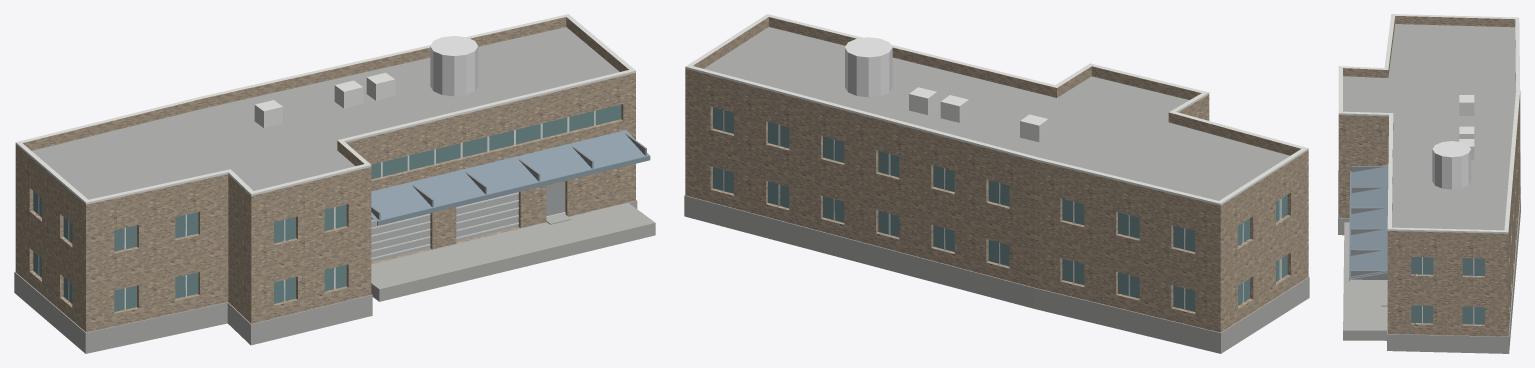
The picture shows the model from 3 angles, left to right: view 1: azimuth 30°, elevation 25°; view 2: azimuth 150°, elevation 25°; view 3: azimuth 270°, elevation 25°; orthographic projection. The views are drawn at different scales.
Parts seen in each view (by area): view 1: C4B buff service brick, C4B grey roof, C4B concrete base, C4B white frames, C4B blue grey metal awning, C4B grey green glass, C4B grey roller shutters, C4B white water tank, C4B awning bracket pole, C4B grey steel service door; view 2: C4B buff service brick, C4B grey roof, C4B concrete base, C4B grey green glass, C4B white frames, C4B white water tank; view 3: C4B grey roof, C4B buff service brick, C4B concrete base, C4B white frames, C4B blue grey metal awning, C4B white water tank, C4B grey green glass, C4B awning bracket pole.
Part boxes in pixels (x1=…): C4B buff service brick: x1=15, y1=17, x2=635, y2=332; C4B grey roof: x1=32, y1=27, x2=619, y2=199; C4B concrete base: x1=14, y1=200, x2=655, y2=353; C4B white frames: x1=15, y1=14, x2=635, y2=310; C4B blue grey metal awning: x1=371, y1=130, x2=650, y2=225; C4B grey green glass: x1=33, y1=104, x2=621, y2=311; C4B grey roller shutters: x1=371, y1=192, x2=518, y2=262; C4B white water tank: x1=430, y1=36, x2=478, y2=96; C4B awning bracket pole: x1=371, y1=133, x2=646, y2=219; C4B grey steel service door: x1=546, y1=181, x2=565, y2=216; C4B buff service brick: x1=685, y1=17, x2=1308, y2=332; C4B grey roof: x1=704, y1=27, x2=1289, y2=200; C4B concrete base: x1=684, y1=195, x2=1309, y2=353; C4B grey green glass: x1=713, y1=107, x2=1287, y2=311; C4B white frames: x1=685, y1=14, x2=1308, y2=309; C4B white water tank: x1=845, y1=37, x2=892, y2=97; C4B grey roof: x1=1343, y1=24, x2=1515, y2=230; C4B buff service brick: x1=1338, y1=16, x2=1520, y2=336; C4B concrete base: x1=1338, y1=153, x2=1520, y2=353; C4B white frames: x1=1338, y1=14, x2=1520, y2=324; C4B blue grey metal awning: x1=1349, y1=164, x2=1388, y2=281; C4B white water tank: x1=1432, y1=141, x2=1471, y2=189; C4B grey green glass: x1=1411, y1=257, x2=1484, y2=324; C4B awning bracket pole: x1=1350, y1=166, x2=1387, y2=279.
Size of the model in its own units: 34.78 by 10.8 by 12.28.
10 materials, 1 textured.
